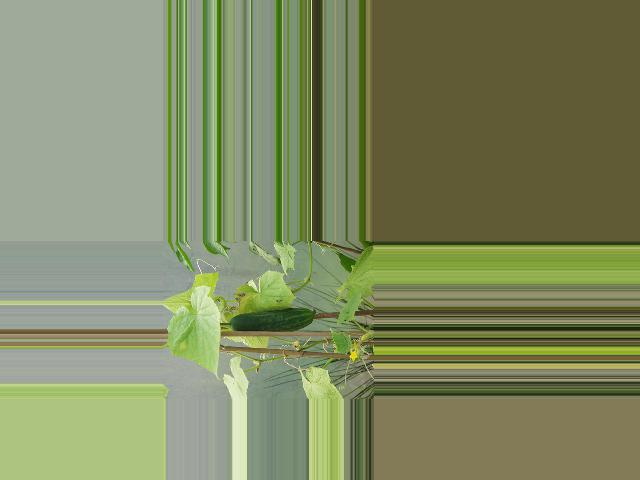cucumber: (229, 307, 315, 332)
